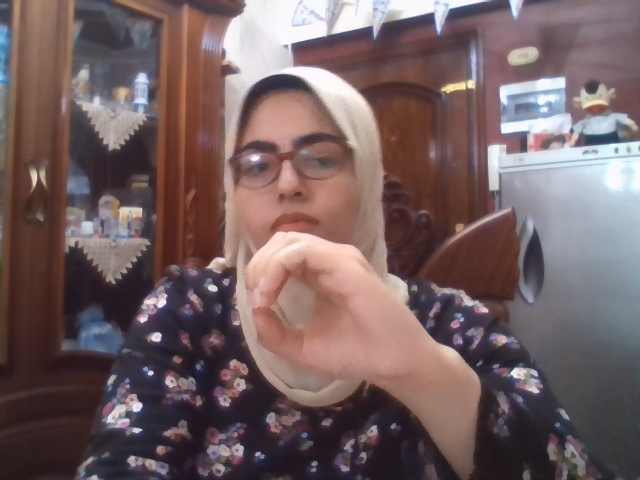O: (244, 230, 420, 382)
